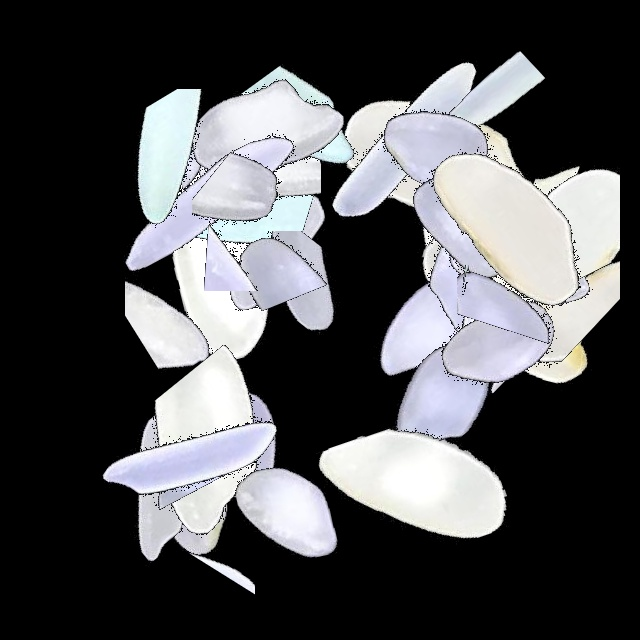Broken: (135, 333, 309, 583), (149, 51, 321, 301), (226, 21, 389, 271), (408, 176, 571, 426), (104, 119, 354, 278), (159, 356, 409, 513), (464, 84, 620, 334), (73, 89, 323, 241), (150, 231, 400, 377), (355, 40, 605, 180), (481, 146, 620, 396), (125, 170, 263, 420), (192, 98, 325, 348), (370, 138, 620, 269), (201, 113, 332, 363), (457, 142, 583, 392), (425, 191, 544, 441), (139, 179, 389, 291), (133, 110, 383, 212), (128, 318, 228, 568), (506, 106, 605, 356), (370, 198, 468, 448), (381, 265, 631, 360), (162, 385, 255, 635), (96, 110, 346, 201), (390, 217, 640, 308), (55, 148, 305, 233), (71, 360, 321, 439)
Full: (92, 137, 342, 387), (352, 99, 602, 349), (381, 184, 631, 434), (304, 207, 554, 457), (153, 125, 403, 375), (133, 49, 383, 299), (64, 373, 314, 623), (318, 41, 568, 291), (32, 358, 282, 608), (316, 275, 566, 525), (281, 15, 531, 265), (308, 23, 558, 273), (346, 148, 596, 398), (291, 361, 541, 611), (390, 138, 640, 388), (138, 5, 388, 255), (83, 75, 333, 325), (390, 122, 640, 372), (159, 390, 409, 640), (67, 327, 317, 577), (335, 100, 585, 350), (390, 99, 640, 349)
